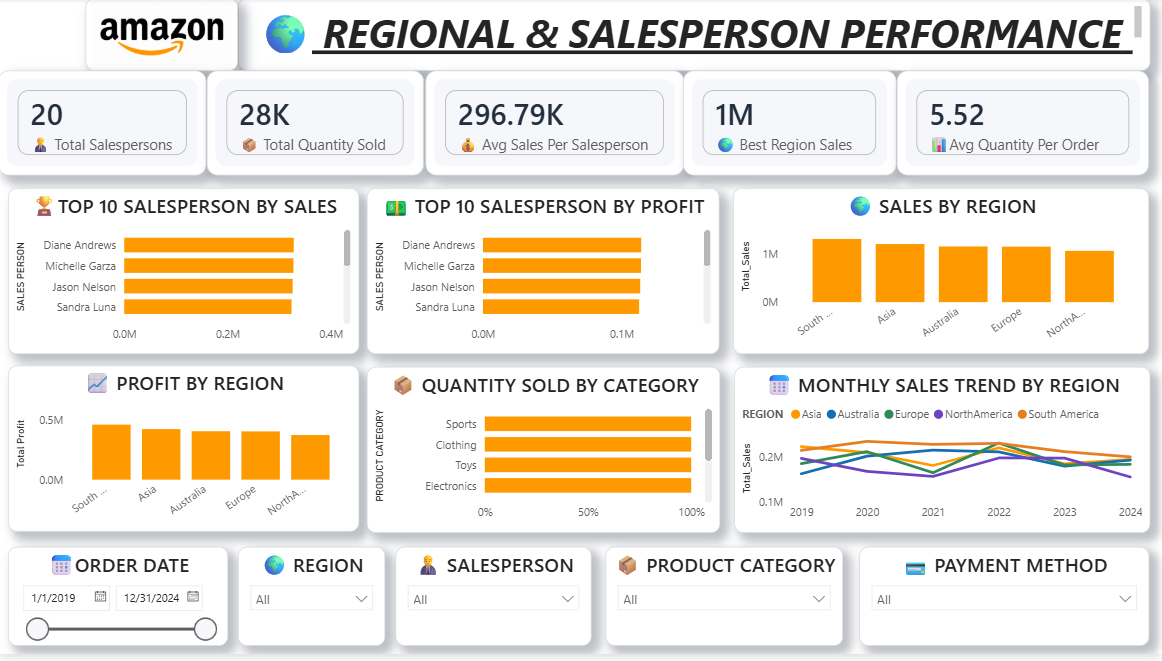

The dashboard page shown, as its layout file describes it:
{"tool":"powerbi","page":{"name":"Page 3","canvas":[1280,720],"ordinal":2},"visuals":[{"type":"textbox","box":[262.9,0,1001.4,80],"z":0},{"type":"image","box":[95.7,0,167.1,80],"z":1000},{"type":"cardVisual","fields":{"Data":["public amazon_sales.Total Salespersons"]},"box":[0,79.6,229.2,115.3],"z":2000},{"type":"cardVisual","fields":{"Data":["public amazon_sales.Total Quantity Sold"]},"box":[229.2,79.6,238.8,115.3],"z":3000},{"type":"cardVisual","fields":{"Data":["public amazon_sales.Avg Sales Per Salesperson"]},"box":[469.3,79.6,284,115.3],"z":4000},{"type":"cardVisual","fields":{"Data":["public amazon_sales.Best Region Sales"]},"box":[752,79.6,234.6,115.3],"z":5000},{"type":"cardVisual","fields":{"Data":["public amazon_sales.Avg Quantity Per Order"]},"box":[986.6,79.6,277.2,115.3],"z":6000},{"type":"clusteredBarChart","title":"🏆TOP 10 SALESPERSON BY SALES","fields":{"Category":["public amazon_sales.SALES PERSON"],"Y":["public amazon_sales.Total_Sales"]},"box":[11,208.6,385.6,182.5],"z":7000},{"type":"clusteredBarChart","title":"💵 TOP 10 SALESPERSON BY PROFIT","fields":{"Category":["public amazon_sales.SALES PERSON"],"Y":["public amazon_sales.Total Profit"]},"box":[404.8,208.6,387,182.5],"z":8000},{"type":"clusteredColumnChart","title":"🌍 SALES BY REGION","fields":{"Category":["public amazon_sales.REGION"],"Y":["public amazon_sales.Total_Sales"]},"box":[806.9,208.6,456.9,182.5],"z":9000},{"type":"columnChart","title":"📈 PROFIT BY REGION","fields":{"Category":["public amazon_sales.REGION"],"Y":["public amazon_sales.Total Profit"]},"box":[11,403.4,385.6,182.5],"z":10000},{"type":"hundredPercentStackedBarChart","title":"📦 QUANTITY SOLD BY CATEGORY","fields":{"Category":["public amazon_sales.PRODUCT CATEGORY"],"Y":["public amazon_sales.Total Quantity Sold"]},"box":[404.8,404.8,388.3,182.5],"z":11000},{"type":"lineChart","title":"📅 MONTHLY SALES TREND BY REGION","fields":{"Category":["public amazon_sales.ORDER DATE.Variation.Date Hierarchy.Year","public amazon_sales.ORDER DATE.Variation.Date Hierarchy.Quarter","public amazon_sales.ORDER DATE.Variation.Date Hierarchy.Month","public amazon_sales.ORDER DATE.Variation.Date Hierarchy.Day"],"Y":["public amazon_sales.Total_Sales"],"Series":["public amazon_sales.REGION"]},"box":[808.2,404.8,456.9,182.5],"z":12000},{"type":"slicer","title":"📅ORDER DATE","fields":{"Values":["public amazon_sales.ORDER DATE"]},"box":[11,602.4,241.5,108.4],"z":13000},{"type":"slicer","title":"🌍 REGION","fields":{"Values":["public amazon_sales.REGION"]},"box":[263.5,602.4,161.9,108.4],"z":14000},{"type":"slicer","title":"👨💼 SALESPERSON","fields":{"Values":["public amazon_sales.SALES PERSON"]},"box":[436.4,602.4,215.4,108.4],"z":15000},{"type":"slicer","title":"📦 PRODUCT CATEGORY","fields":{"Values":["public amazon_sales.PRODUCT CATEGORY"]},"box":[666.9,602.4,260.7,108.4],"z":16000},{"type":"slicer","title":"💳 PAYMENT METHOD","fields":{"Values":["public amazon_sales.PAYMENT METHOD"]},"box":[945.5,602.4,318.4,108.4],"z":17000}]}

Visuals, with their boxes in screenshot pixels (x1, y1, x2, y2), scaled from the page's 1280x720 canvas onto the 1162x661 screenshot:
textbox: BBox(239, 0, 1148, 73)
image: BBox(87, 0, 239, 73)
cardVisual - public amazon_sales.Total Salespersons: BBox(0, 73, 208, 179)
cardVisual - public amazon_sales.Total Quantity Sold: BBox(208, 73, 425, 179)
cardVisual - public amazon_sales.Avg Sales Per Salesperson: BBox(426, 73, 684, 179)
cardVisual - public amazon_sales.Best Region Sales: BBox(683, 73, 896, 179)
cardVisual - public amazon_sales.Avg Quantity Per Order: BBox(896, 73, 1147, 179)
"🏆TOP 10 SALESPERSON BY SALES" clusteredBarChart: BBox(10, 192, 360, 359)
"💵 TOP 10 SALESPERSON BY PROFIT" clusteredBarChart: BBox(367, 192, 719, 359)
"🌍 SALES BY REGION" clusteredColumnChart: BBox(733, 192, 1147, 359)
"📈 PROFIT BY REGION" columnChart: BBox(10, 370, 360, 538)
"📦 QUANTITY SOLD BY CATEGORY" hundredPercentStackedBarChart: BBox(367, 372, 720, 539)
"📅 MONTHLY SALES TREND BY REGION" lineChart: BBox(734, 372, 1148, 539)
"📅ORDER DATE" slicer: BBox(10, 553, 229, 653)
"🌍 REGION" slicer: BBox(239, 553, 386, 653)
"👨💼 SALESPERSON" slicer: BBox(396, 553, 592, 653)
"📦 PRODUCT CATEGORY" slicer: BBox(605, 553, 842, 653)
"💳 PAYMENT METHOD" slicer: BBox(858, 553, 1147, 653)
